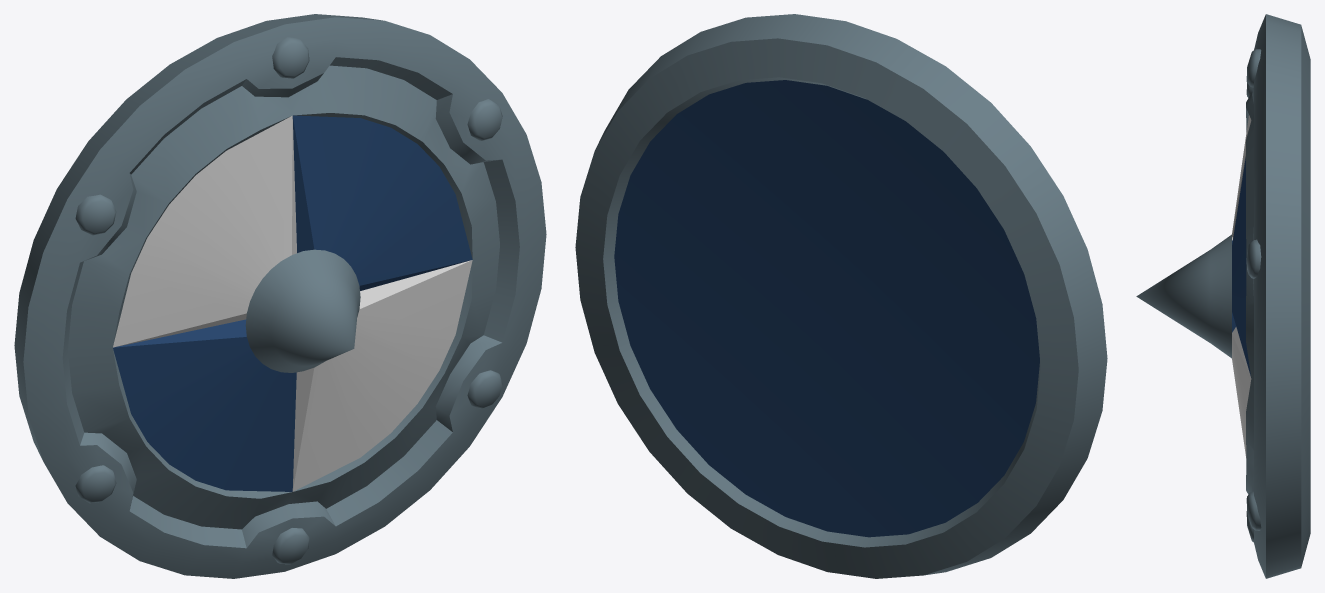
The model's file is vikingShieldA.obj.
3 renders of one model, left to right at view 1: azimuth 30°, elevation 25°; view 2: azimuth 150°, elevation 25°; view 3: azimuth 270°, elevation 25°, orthographic. The views are drawn at different scales.
Parts seen in each view (by area): view 1: vikingShieldA_Cylinder.391; view 2: vikingShieldA_Cylinder.391; view 3: vikingShieldA_Cylinder.391.
Part boxes in pixels (box(x1,y1,x2,y2)): vikingShieldA_Cylinder.391: box(14, 14, 546, 578); vikingShieldA_Cylinder.391: box(575, 14, 1107, 578); vikingShieldA_Cylinder.391: box(1136, 14, 1310, 578).
Bounding box in the file's own units: 0.7555 × 0.7555 × 0.2332.
